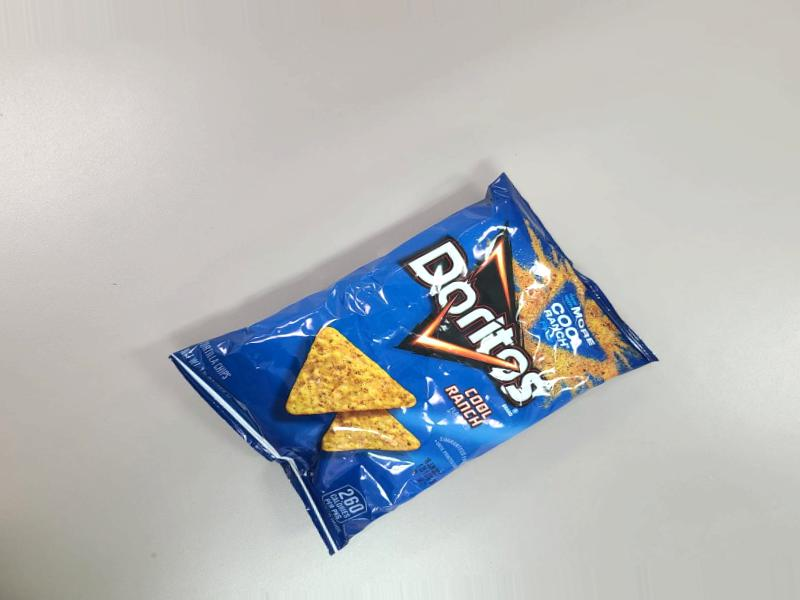doritos: (203, 259, 709, 592)
